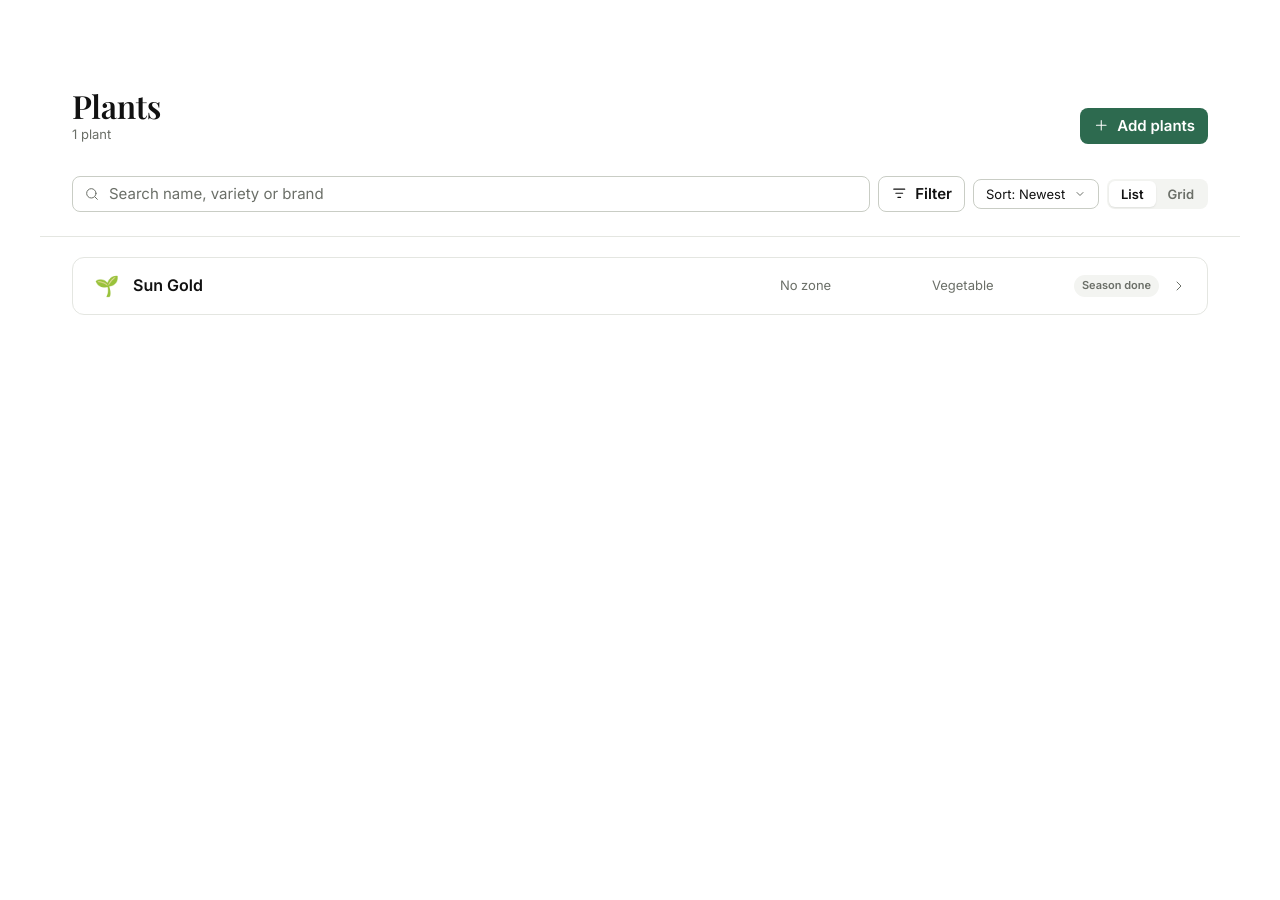
Test: Plants page accessibility › gives every control a name a screen reader can announce, including in the filter sheet
The image size is (1280, 900).
Check: the dropdown named "Sort plants" is shown, box [973,179,1099,209]
Check: the search field named "Search plants" is shown, box [72,176,870,212]
Click the button "Filter" at (921, 194), box [878,176,965,212]
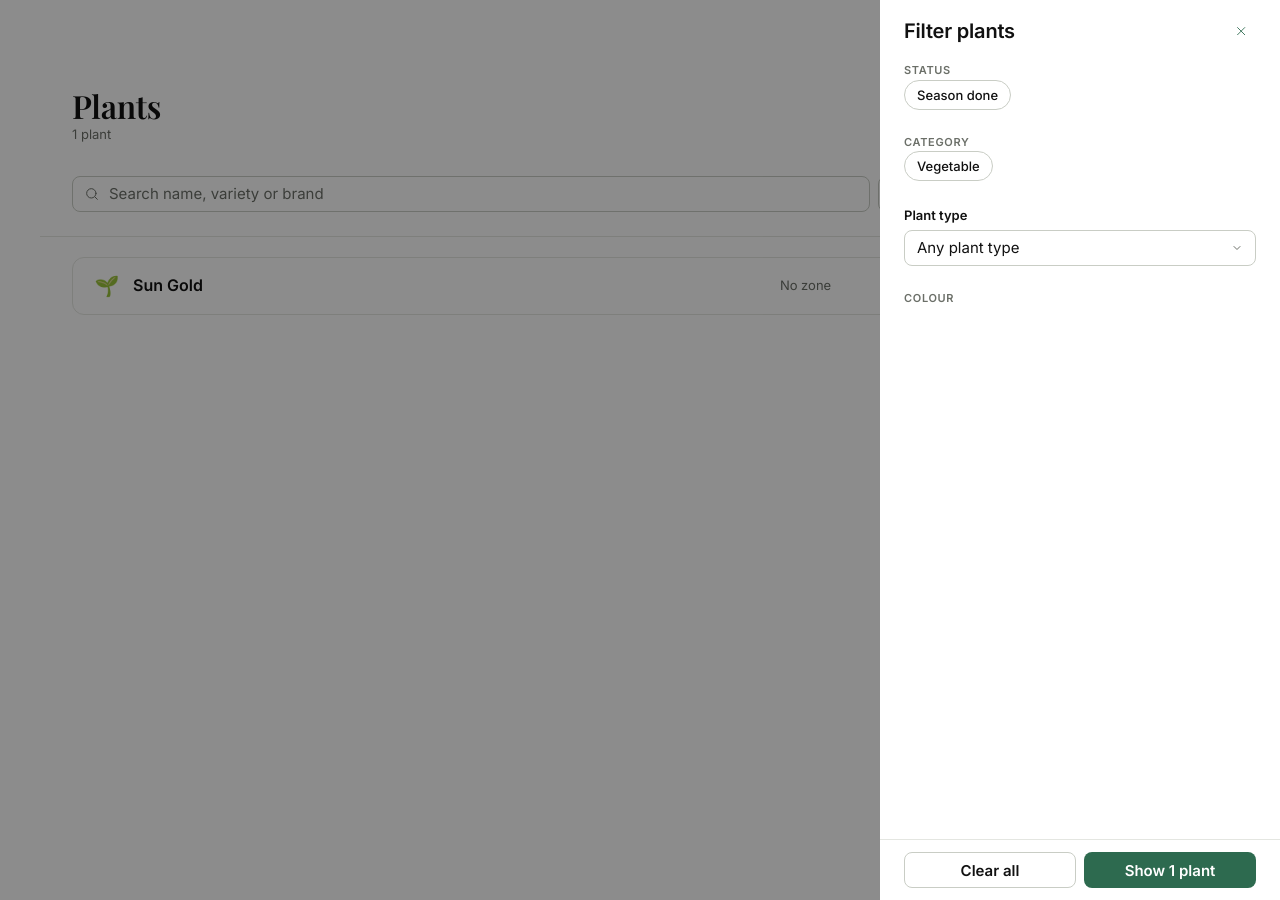
Check: the dropdown labelled "Plant type" is shown, box [904,230,1256,266]
